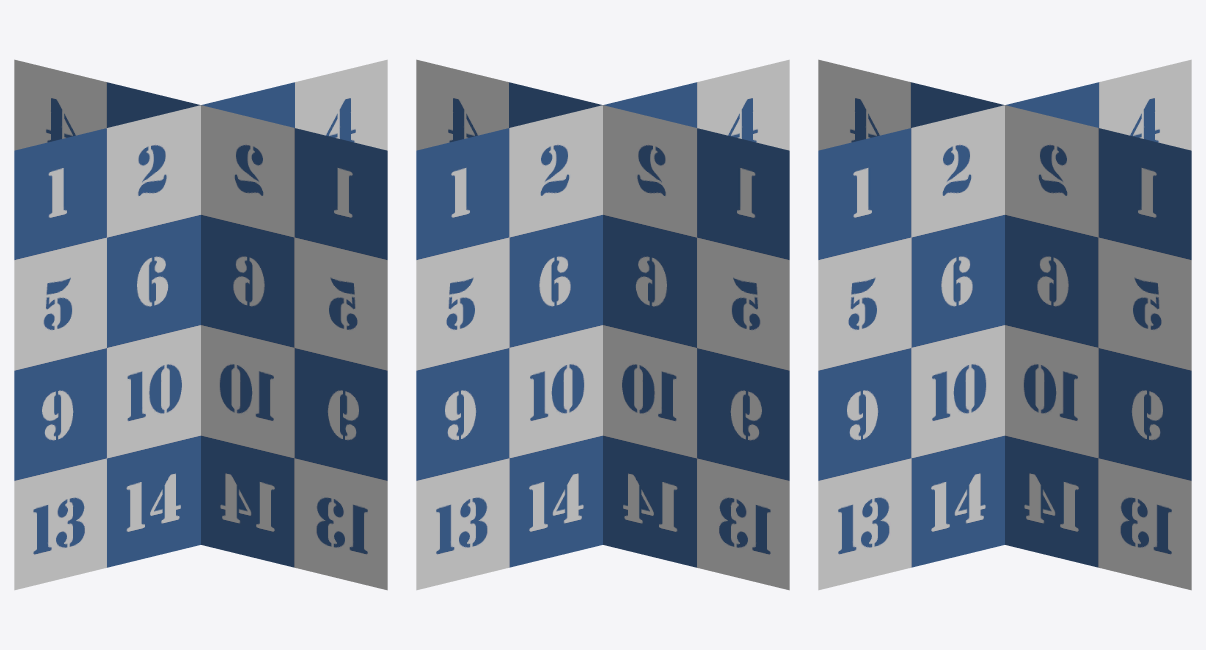
Rendered from PlaneClose1.fbx.
3 views of the same model, side by side, from view 1: azimuth 30°, elevation 25°; view 2: azimuth 150°, elevation 25°; view 3: azimuth 270°, elevation 25° (orthographic).
Parts seen in each view (by area): view 1: SM_e_Plc_P0002_PlaneCloss001; view 2: SM_e_Plc_P0002_PlaneCloss001; view 3: SM_e_Plc_P0002_PlaneCloss001.
Part boxes in pixels (box(x1,y1,x2,y2)): SM_e_Plc_P0002_PlaneCloss001: box(14, 59, 387, 590); SM_e_Plc_P0002_PlaneCloss001: box(416, 59, 789, 590); SM_e_Plc_P0002_PlaneCloss001: box(818, 59, 1191, 590).
Bounding box in the file's own units: 100 × 112 × 86.6.
